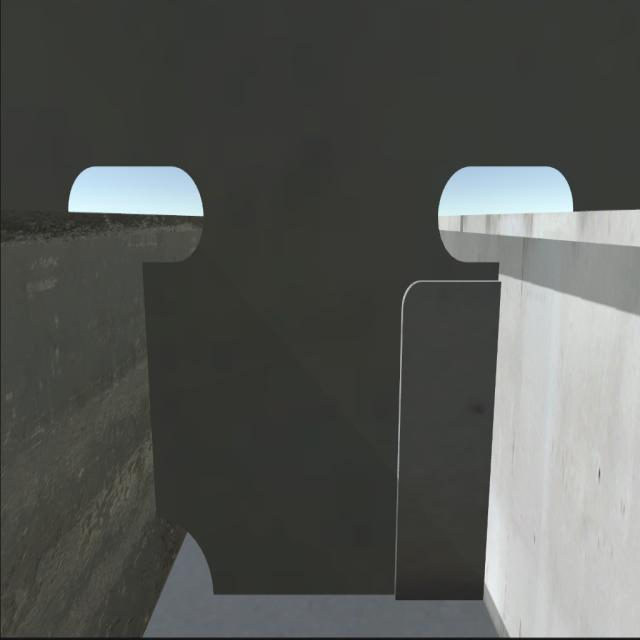fillet_hole: (160, 516, 214, 593)
fillet_yong_jeop_jang: (201, 584, 485, 614)
longi_yong_jeop_jang: (484, 272, 503, 604), (141, 257, 160, 521)
plate_CP05: (397, 275, 487, 607)
